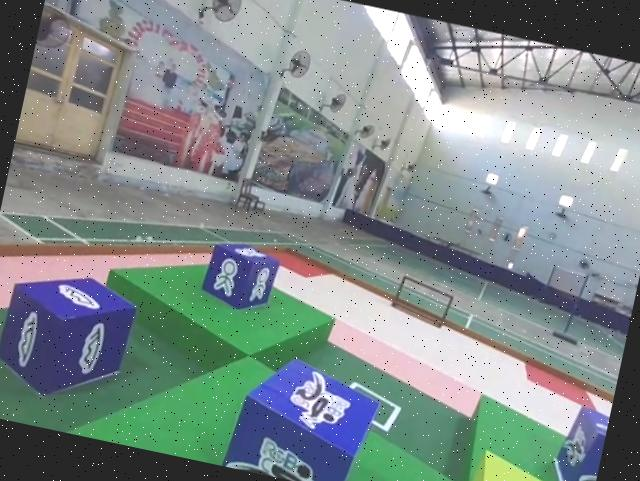R1 Blue: (221, 347, 385, 481), (543, 402, 610, 481)
R2 Real Blue: (0, 261, 140, 412), (196, 236, 281, 317)
